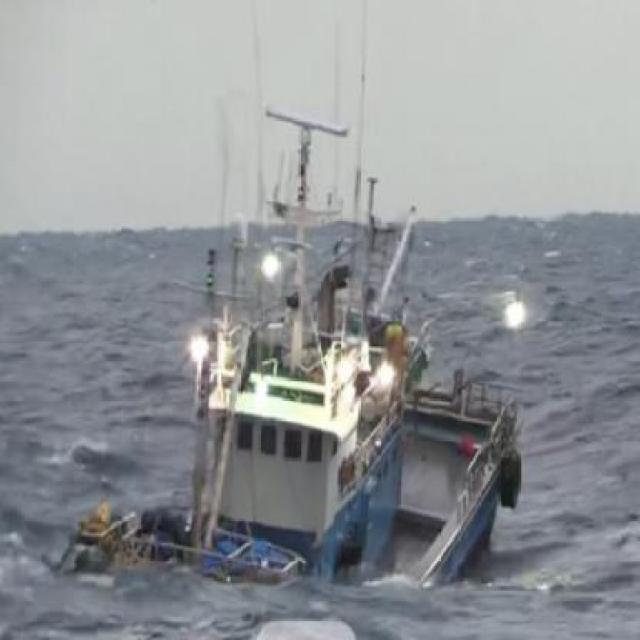Ship: (117, 246, 527, 592)
